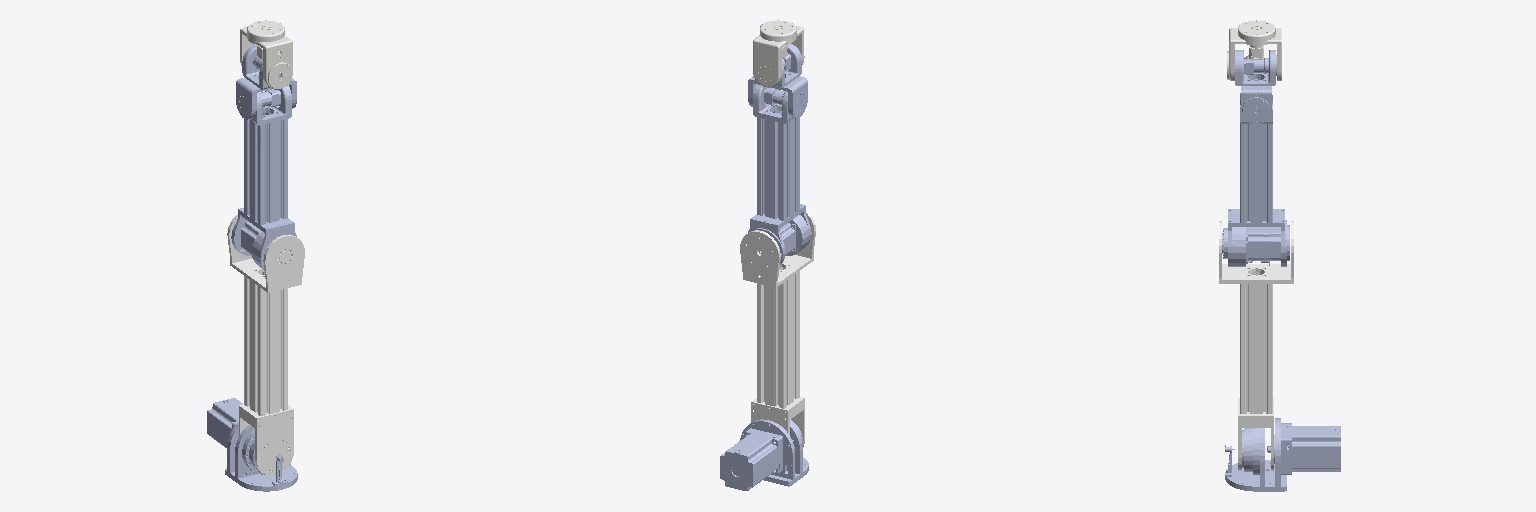
URDF robot description (Borat_MoveIt_URDF):
<?xml version="1.0" encoding="utf-8"?>
<!-- This URDF was automatically created by SolidWorks to URDF Exporter! Originally created by [author] ([email redacted]) 
     Commit Version: 1.6.0-4-g7f85cfe  Build Version: 1.6.7995.38578
     For more information, please see http://wiki.ros.org/sw_urdf_exporter -->
<robot
  name="Borat_MoveIt_URDF">
  <link
    name="base_link">
    <inertial>
      <origin
        xyz="2.16463897526609E-05 0.00206445317296122 0.09075756862324"
        rpy="0 0 0" />
      <mass
        value="1.13447955048954" />
      <inertia
        ixx="0.00382536743502923"
        ixy="-5.21479626374467E-10"
        ixz="2.64488701815579E-11"
        iyy="0.00238349995413209"
        iyz="-2.23095995120308E-08"
        izz="0.00584445390155973" />
    </inertial>
    <visual>
      <origin
        xyz="0 0 0"
        rpy="0 0 0" />
      <geometry>
        <mesh
          filename="package://Borat_MoveIt_URDF/meshes/base_link.STL" />
      </geometry>
      <material
        name="">
        <color
          rgba="0.627450980392157 0.627450980392157 0.627450980392157 1" />
      </material>
    </visual>
    <collision>
      <origin
        xyz="0 0 0"
        rpy="0 0 0" />
      <geometry>
        <mesh
          filename="package://Borat_MoveIt_URDF/meshes/base_link.STL" />
      </geometry>
    </collision>
  </link>
  <link
    name="Link_1">
    <inertial>
      <origin
        xyz="-0.584904807429956 0.453876787126515 -0.84927716583619"
        rpy="0 0 0" />
      <mass
        value="3.45485333358939" />
      <inertia
        ixx="0.0287244399044521"
        ixy="1.07716900681633E-05"
        ixz="1.36471809579462E-05"
        iyy="0.0104194299620773"
        iyz="-0.00252304337513046"
        izz="0.0275587652557441" />
    </inertial>
    <visual>
      <origin
        xyz="0 0 0"
        rpy="0 0 0" />
      <geometry>
        <mesh
          filename="package://Borat_MoveIt_URDF/meshes/Link_1.STL" />
      </geometry>
      <material
        name="">
        <color
          rgba="0.792156862745098 0.819607843137255 0.933333333333333 1" />
      </material>
    </visual>
    <collision>
      <origin
        xyz="0 0 0"
        rpy="0 0 0" />
      <geometry>
        <mesh
          filename="package://Borat_MoveIt_URDF/meshes/Link_1.STL" />
      </geometry>
    </collision>
  </link>
  <joint
    name="Joint_1"
    type="fixed">
    <origin
      xyz="0.585022209380404 -0.370049921410799 1.21249999999741"
      rpy="0 0 0" />
    <parent
      link="base_link" />
    <child
      link="Link_1" />
    <axis
      xyz="0 0 0" />
  </joint>
  <link
    name="Link_2">
    <inertial>
      <origin
        xyz="1.31465315811319E-06 0.048226181612691 0.335988235790635"
        rpy="0 0 0" />
      <mass
        value="1.77408202340127" />
      <inertia
        ixx="0.085386382093851"
        ixy="-5.25912990745446E-09"
        ixz="-4.99637761320083E-07"
        iyy="0.0818444958818263"
        iyz="-0.00123956240616675"
        izz="0.00760750680406489" />
    </inertial>
    <visual>
      <origin
        xyz="0 0 0"
        rpy="0 0 0" />
      <geometry>
        <mesh
          filename="package://Borat_MoveIt_URDF/meshes/Link_2.STL" />
      </geometry>
      <material
        name="">
        <color
          rgba="1 1 1 1" />
      </material>
    </visual>
    <collision>
      <origin
        xyz="0 0 0"
        rpy="0 0 0" />
      <geometry>
        <mesh
          filename="package://Borat_MoveIt_URDF/meshes/Link_2.STL" />
      </geometry>
    </collision>
  </link>
  <joint
    name="Joint_2"
    type="fixed">
    <origin
      xyz="-0.585 0.32 -0.84"
      rpy="0 0 0" />
    <parent
      link="Link_1" />
    <child
      link="Link_2" />
    <axis
      xyz="0 0 0" />
  </joint>
  <link
    name="Link_3">
    <inertial>
      <origin
        xyz="0.000208836867107098 0.0874778725922791 0.129951370216716"
        rpy="0 0 0" />
      <mass
        value="2.67779587153478" />
      <inertia
        ixx="0.084522229238636"
        ixy="-4.14018356467283E-06"
        ixz="-0.000235025297986019"
        iyy="0.0817978835290952"
        iyz="-0.00235129151271093"
        izz="0.00795596534739965" />
    </inertial>
    <visual>
      <origin
        xyz="0 0 0"
        rpy="0 0 0" />
      <geometry>
        <mesh
          filename="package://Borat_MoveIt_URDF/meshes/Link_3.STL" />
      </geometry>
      <material
        name="">
        <color
          rgba="0.792156862745098 0.819607843137255 0.933333333333333 1" />
      </material>
    </visual>
    <collision>
      <origin
        xyz="0 0 0"
        rpy="0 0 0" />
      <geometry>
        <mesh
          filename="package://Borat_MoveIt_URDF/meshes/Link_3.STL" />
      </geometry>
    </collision>
  </link>
  <joint
    name="Joint_3"
    type="fixed">
    <origin
      xyz="1.06288581022684E-05 -0.0442500000000069 0.6288"
      rpy="0 0 0" />
    <parent
      link="Link_2" />
    <child
      link="Link_3" />
    <axis
      xyz="0 0 0" />
  </joint>
  <link
    name="Link_4">
    <inertial>
      <origin
        xyz="0.0513990734103578 -0.00518487356130426 0.0678838912575537"
        rpy="0 0 0" />
      <mass
        value="0.723954348626968" />
      <inertia
        ixx="0.00237253952171158"
        ixy="1.33651820734314E-05"
        ixz="-0.000180992792801661"
        iyy="0.00260543587960669"
        iyz="0.000131020867550343"
        izz="0.00219330564024989" />
    </inertial>
    <visual>
      <origin
        xyz="0 0 0"
        rpy="0 0 0" />
      <geometry>
        <mesh
          filename="package://Borat_MoveIt_URDF/meshes/Link_4.STL" />
      </geometry>
      <material
        name="">
        <color
          rgba="0.792156862745098 0.819607843137255 0.933333333333333 1" />
      </material>
    </visual>
    <collision>
      <origin
        xyz="0 0 0"
        rpy="0 0 0" />
      <geometry>
        <mesh
          filename="package://Borat_MoveIt_URDF/meshes/Link_4.STL" />
      </geometry>
    </collision>
  </link>
  <joint
    name="Joint_4"
    type="fixed">
    <origin
      xyz="-0.0555513662683569 0.0942500000000001 0.441994922367149"
      rpy="0 0 0" />
    <parent
      link="Link_3" />
    <child
      link="Link_4" />
    <axis
      xyz="0 0 0" />
  </joint>
  <link
    name="Link_5">
    <inertial>
      <origin
        xyz="3.50406134330683E-06 -0.0514710678990726 0.0537561072488955"
        rpy="0 0 0" />
      <mass
        value="0.557275942885759" />
      <inertia
        ixx="0.00243659305768385"
        ixy="-2.59907774189762E-07"
        ixz="1.66507356320488E-07"
        iyy="0.00120246682971844"
        iyz="0.000106158819586914"
        izz="0.00187711508779141" />
    </inertial>
    <visual>
      <origin
        xyz="0 0 0"
        rpy="0 0 0" />
      <geometry>
        <mesh
          filename="package://Borat_MoveIt_URDF/meshes/Link_5.STL" />
      </geometry>
      <material
        name="">
        <color
          rgba="0.964705882352941 0.964705882352941 0.952941176470588 1" />
      </material>
    </visual>
    <collision>
      <origin
        xyz="0 0 0"
        rpy="0 0 0" />
      <geometry>
        <mesh
          filename="package://Borat_MoveIt_URDF/meshes/Link_5.STL" />
      </geometry>
    </collision>
  </link>
  <joint
    name="Joint_5"
    type="fixed">
    <origin
      xyz="0.0549500000005697 0.055050000000012 0.10149999999993"
      rpy="0 0 0" />
    <parent
      link="Link_4" />
    <child
      link="Link_5" />
    <axis
      xyz="0 0 0" />
  </joint>
  <link
    name="Link_6">
    <inertial>
      <origin
        xyz="4.38538094726937E-15 -6.32827124036339E-15 0.0115090583818271"
        rpy="0 0 0" />
      <mass
        value="0.0911378688516541" />
      <inertia
        ixx="8.03512703439223E-05"
        ixy="-3.10440722332783E-19"
        ixz="3.47797188819465E-17"
        iyy="8.03512703439221E-05"
        iyz="-3.44218311846734E-17"
        izz="0.000155898456351931" />
    </inertial>
    <visual>
      <origin
        xyz="0 0 0"
        rpy="0 0 0" />
      <geometry>
        <mesh
          filename="package://Borat_MoveIt_URDF/meshes/Link_6.STL" />
      </geometry>
      <material
        name="">
        <color
          rgba="0.964705882352941 0.964705882352941 0.952941176470588 1" />
      </material>
    </visual>
    <collision>
      <origin
        xyz="0 0 0"
        rpy="0 0 0" />
      <geometry>
        <mesh
          filename="package://Borat_MoveIt_URDF/meshes/Link_6.STL" />
      </geometry>
    </collision>
  </link>
  <joint
    name="Joint_6"
    type="fixed">
    <origin
      xyz="0 -0.0545106312063043 0.0960000000003101"
      rpy="0 0 0" />
    <parent
      link="Link_5" />
    <child
      link="Link_6" />
    <axis
      xyz="0 0 0" />
  </joint>
</robot>

--- Render facts (derived) ---
3 views of the same robot in one strip: view 1: azimuth 30°, elevation 25°; view 2: azimuth 150°, elevation 25°; view 3: azimuth 270°, elevation 25° (orthographic).
Model Borat_MoveIt_URDF with 7 links and 6 joints (6 fixed), rooted at base_link, posed every joint at zero.
Visible links, largest first — view 1: Link_2, Link_3, Link_1, Link_5, Link_4, Link_6; view 2: Link_2, Link_3, Link_1, Link_5, Link_4, Link_6; view 3: Link_2, Link_3, Link_1, Link_4, Link_5, Link_6.
Link boxes in pixels (box(x1,y1,x2,y2)): Link_2: box(227, 214, 304, 475); Link_3: box(231, 85, 296, 269); Link_1: box(207, 398, 297, 491); Link_5: box(240, 27, 292, 89); Link_4: box(236, 44, 296, 119); Link_6: box(247, 20, 284, 41); Link_2: box(740, 210, 815, 446); Link_3: box(748, 84, 811, 264); Link_1: box(720, 419, 808, 490); Link_5: box(753, 26, 804, 87); Link_4: box(748, 43, 807, 117); Link_6: box(760, 20, 796, 41); Link_2: box(1219, 221, 1293, 470); Link_3: box(1222, 79, 1289, 266); Link_1: box(1225, 418, 1340, 491); Link_4: box(1235, 50, 1276, 123); Link_5: box(1227, 28, 1281, 80); Link_6: box(1238, 20, 1275, 41).
Size in the robot's own frame: 0.172 by 0.3389 by 1.38 metres.
6 mesh visuals loaded from 7 distinct referenced files (6 binary STL); not drawn: 1 (reference not matched to a file when rendering).
